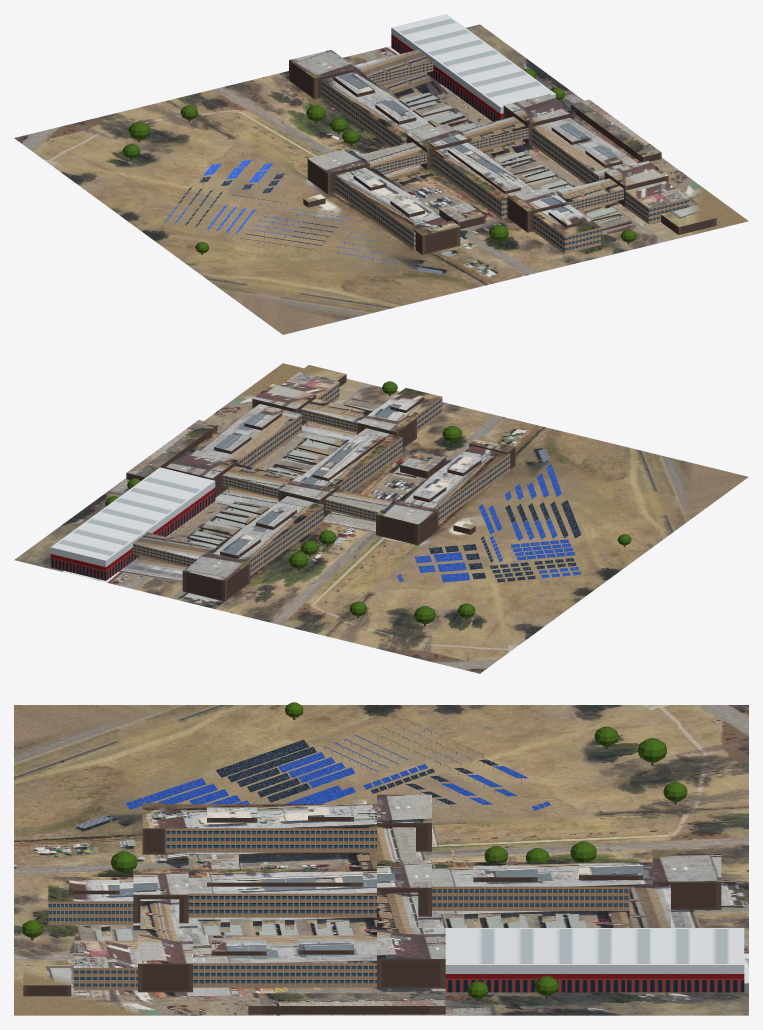
File: factory_campus_3d_model.glb
3 views of the same model, one above another, from view 1: azimuth 30°, elevation 25°; view 2: azimuth 150°, elevation 25°; view 3: azimuth 270°, elevation 25° (orthographic). The views are drawn at different scales.
Visible parts, largest first — view 1: FactorySolarCampus; view 2: FactorySolarCampus; view 3: FactorySolarCampus.
Boxes of the visible parts, x1,y1,x2,y2 form: FactorySolarCampus: [14, 14, 748, 334]; FactorySolarCampus: [14, 363, 748, 673]; FactorySolarCampus: [14, 702, 748, 1015].
Bounding box in the file's own units: 320 × 14.2 × 320.
Materials: 1 (1 with a texture image).
